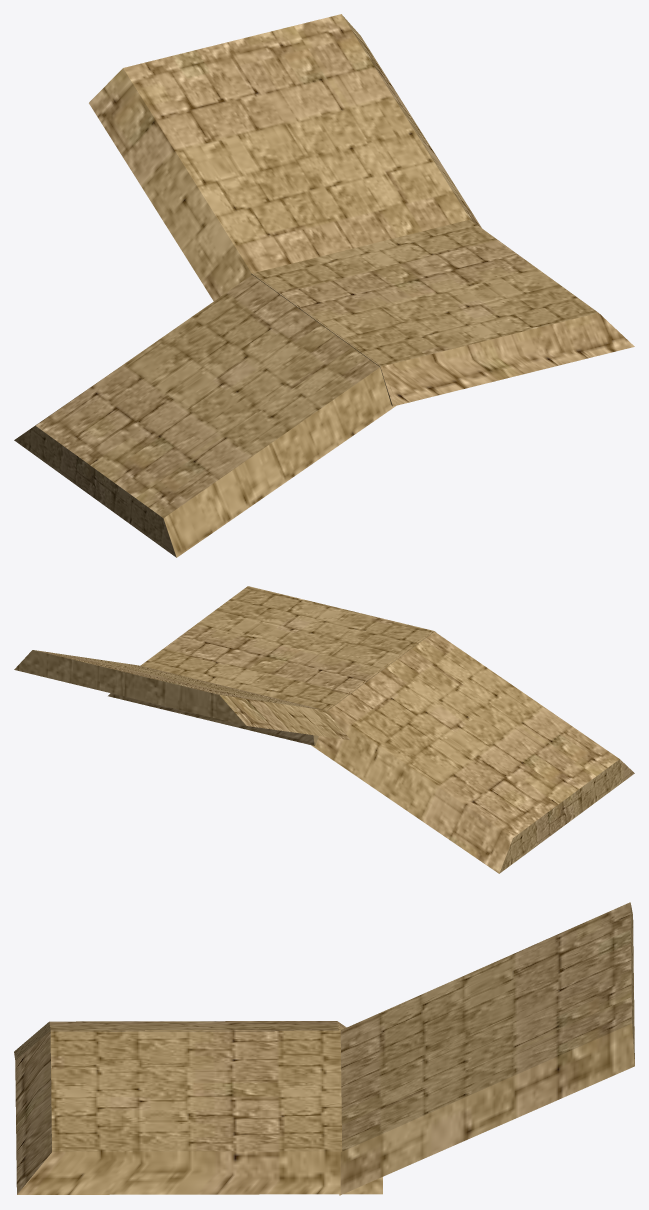
File: Platform_3.1.fbx
3 views of the same model, one above another, from view 1: azimuth 30°, elevation 25°; view 2: azimuth 150°, elevation 25°; view 3: azimuth 270°, elevation 25° (orthographic). The views are drawn at different scales.
Parts seen in each view (by area): view 1: polySurface1; view 2: polySurface1; view 3: polySurface1.
Part boxes in pixels (left/top/right/bottom): polySurface1: left=14, top=14, right=634, bottom=557; polySurface1: left=14, top=586, right=634, bottom=873; polySurface1: left=14, top=902, right=634, bottom=1195.
Size of the model in its own units: 3.89 by 1.92 by 4.
